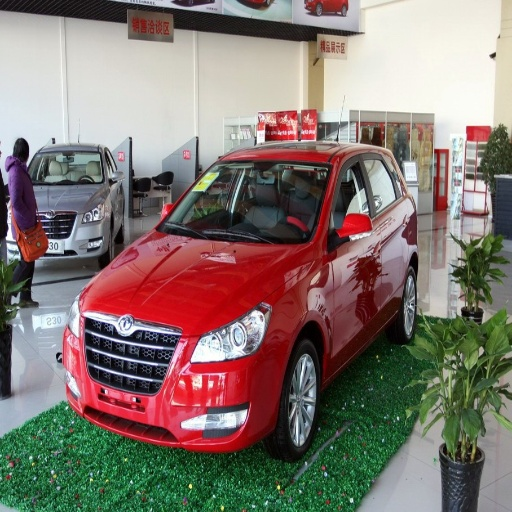front_bumper: (66, 314, 285, 451)
front_glass: (156, 157, 330, 243)
front_left_door: (330, 152, 378, 366)
